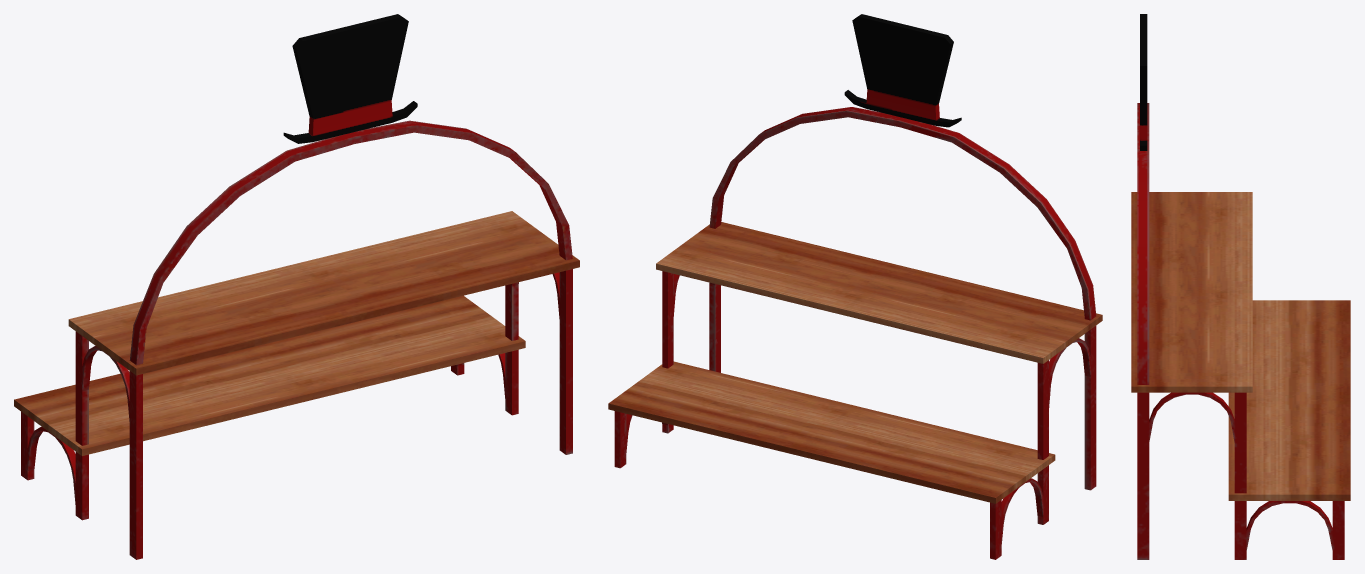
Rendered from hatStand.gltf.
3 renders of one model, left to right at view 1: azimuth 30°, elevation 25°; view 2: azimuth 150°, elevation 25°; view 3: azimuth 270°, elevation 25°, orthographic. The views are drawn at different scales.
Parts seen in each view (by area): view 1: hatStand; view 2: hatStand; view 3: hatStand.
Boxes of the visible parts, x1=… form: hatStand: x1=14, y1=14, x2=579, y2=559; hatStand: x1=608, y1=14, x2=1102, y2=559; hatStand: x1=1131, y1=14, x2=1350, y2=559.
Size of the model in its own units: 2.3 by 2.37 by 1.1.
1 material, 1 textured.
